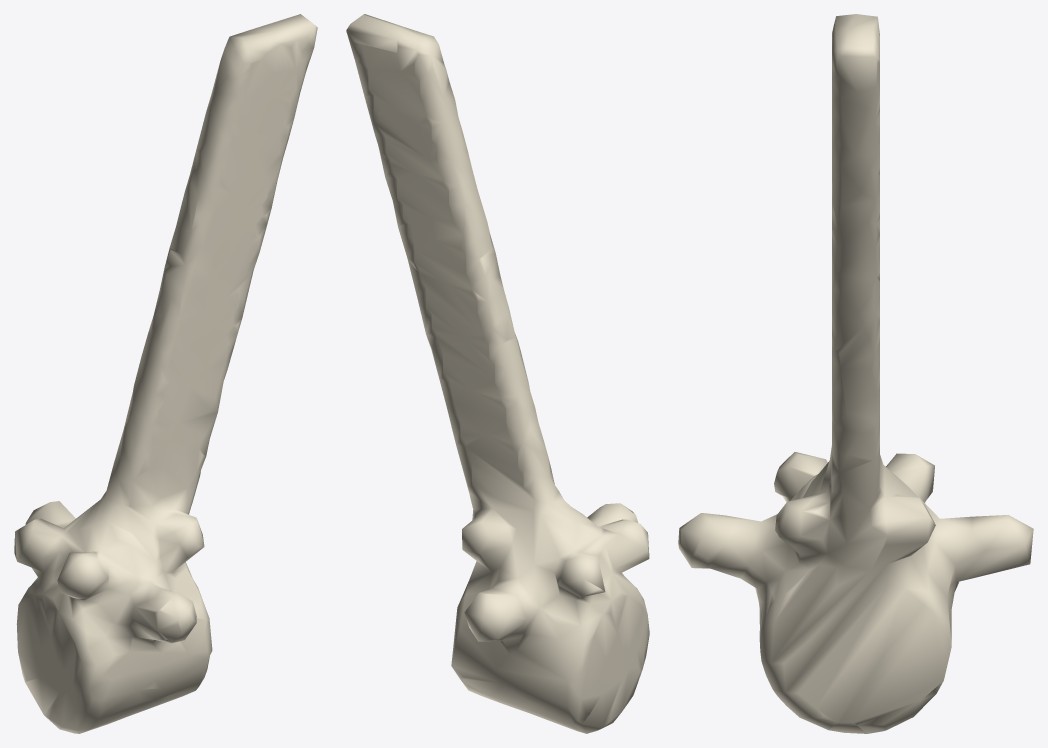
The model's file is thoracic_4.glb.
3 renders of one model, left to right at view 1: azimuth 30°, elevation 25°; view 2: azimuth 150°, elevation 25°; view 3: azimuth 270°, elevation 25°, orthographic. The views are drawn at different scales.
Parts seen in each view (by area): view 1: geometry_0; view 2: geometry_0; view 3: geometry_0.
Boxes of the visible parts, left/top/right/bottom form: geometry_0: left=14, top=14, right=317, bottom=733; geometry_0: left=346, top=14, right=649, bottom=733; geometry_0: left=678, top=14, right=1033, bottom=733.
Bounding box in the file's own units: 0.191 × 0.4331 × 0.1777.
